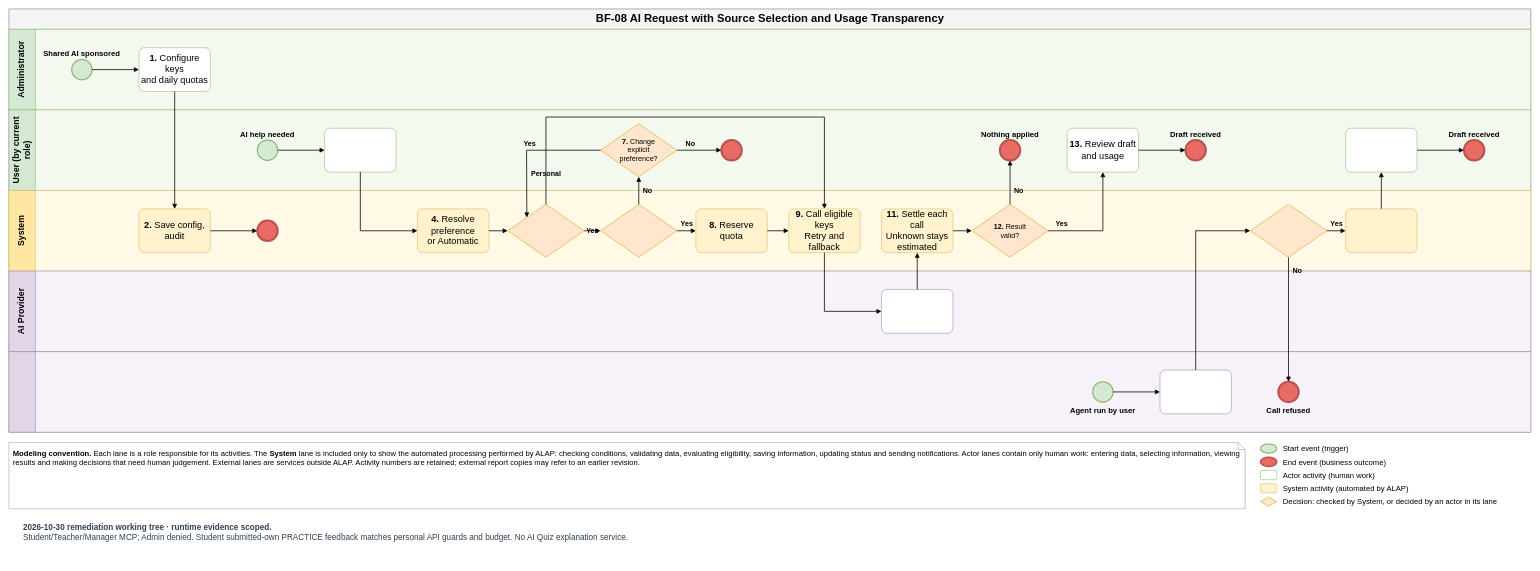
The diagram is 1540 pixels wide and 571 high, and some of its shapes have lost their labels. Here are the shapes that lost their labels. From the top down, the box of each, then its label:
(324, 128, 396, 172): 3. Select AI action
(720, 139, 743, 161): Work done manually
(1345, 128, 1417, 172): 17. Review own tool output
(256, 219, 278, 242): Quota policy active
(507, 204, 584, 257): 5. Shared source?
(600, 204, 677, 257): 6. Quota available?
(1250, 204, 1327, 257): 15. Student/educator and current scope?
(1345, 208, 1417, 253): 16. Run tool, log call
(881, 289, 953, 333): 10. Process request
(8, 351, 1531, 432): User's MCP Agent
(1159, 369, 1231, 414): 14. Call ALAP tool
